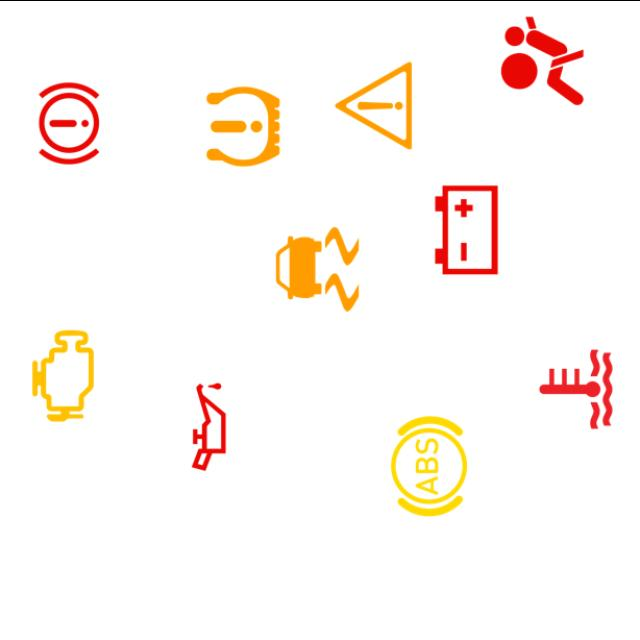Anti Lock Braking System: (374, 410, 484, 520)
Braking System Issue: (15, 68, 124, 178)
Charging System Issue: (412, 174, 522, 284)
Check Engine: (8, 320, 118, 430)
Electronic Stability Problem -ESP-: (262, 214, 372, 324)
Engine Overheating Warning Light: (521, 334, 631, 444)
Low Engine Oil Warning Light: (154, 371, 264, 481)
Low Tire Pressure Warning Light: (188, 70, 298, 180)
Master warning light: (318, 50, 428, 160)
SRS-Airbag: (488, 5, 598, 115)
